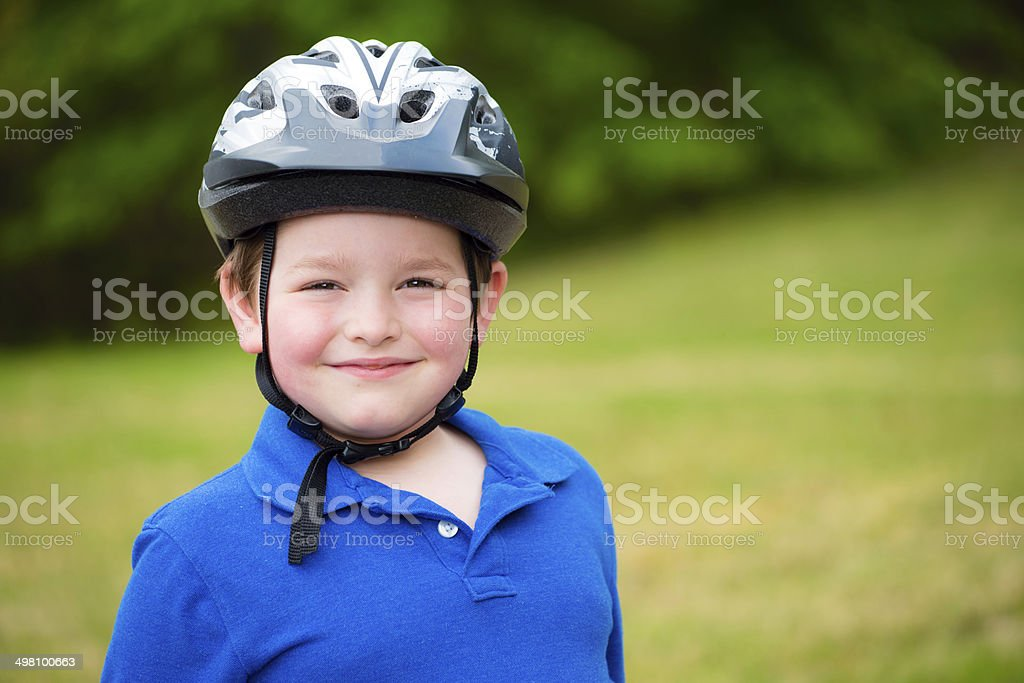helmet: (199, 36, 529, 438)
